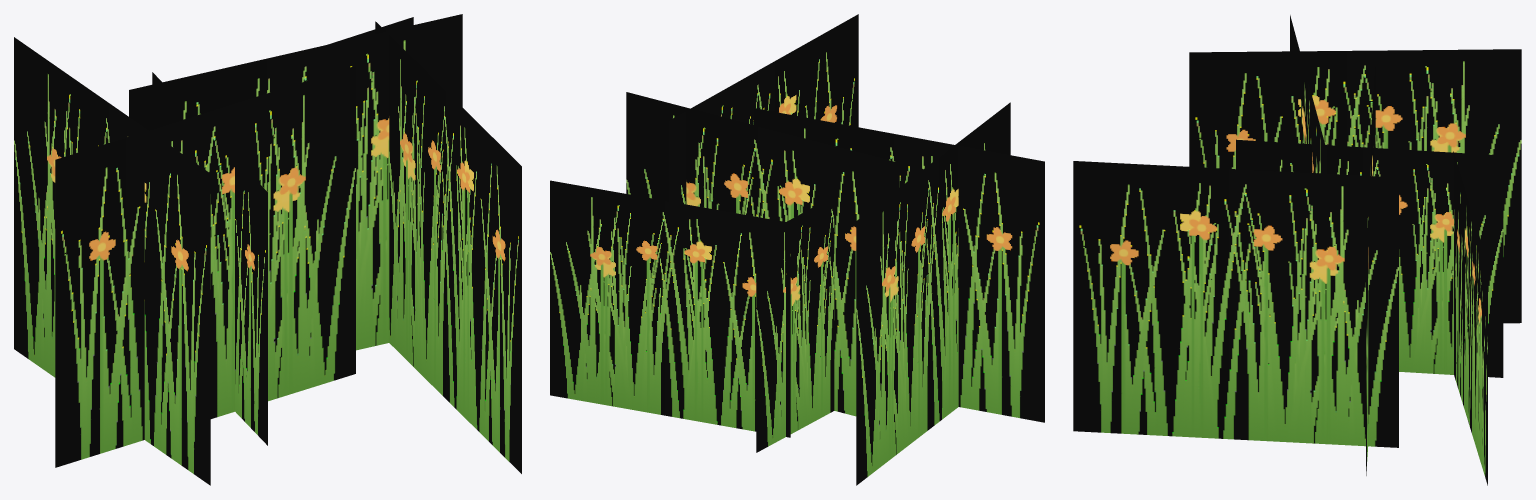
File: plant_flowers_yellow.glb
3 renders of one model, left to right at view 1: azimuth 30°, elevation 25°; view 2: azimuth 150°, elevation 25°; view 3: azimuth 270°, elevation 25°, orthographic. The views are drawn at different scales.
Parts seen in each view (by area): view 1: flowers; view 2: flowers; view 3: flowers.
Part boxes in pixels (x1,y1,x2,y2): flowers: (14,14,521,485); flowers: (550,14,1044,485); flowers: (1073,15,1521,485).
Bounding box in the file's own units: 0.8443 × 0.5349 × 0.7932.
1 material, 1 textured.
